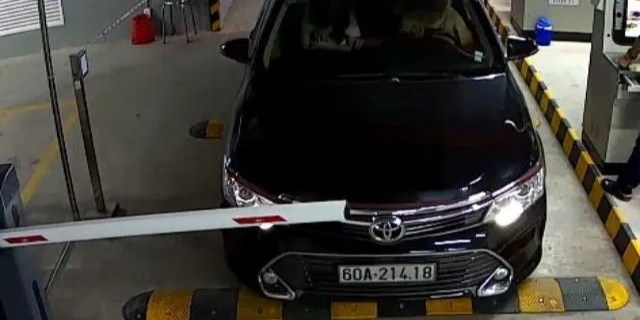bien_so: (340, 265, 436, 283)
